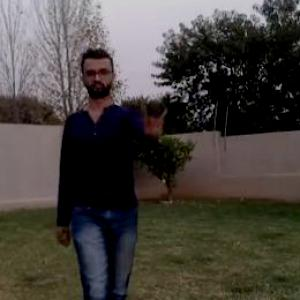takeoff-hand: (140, 96, 173, 144)
